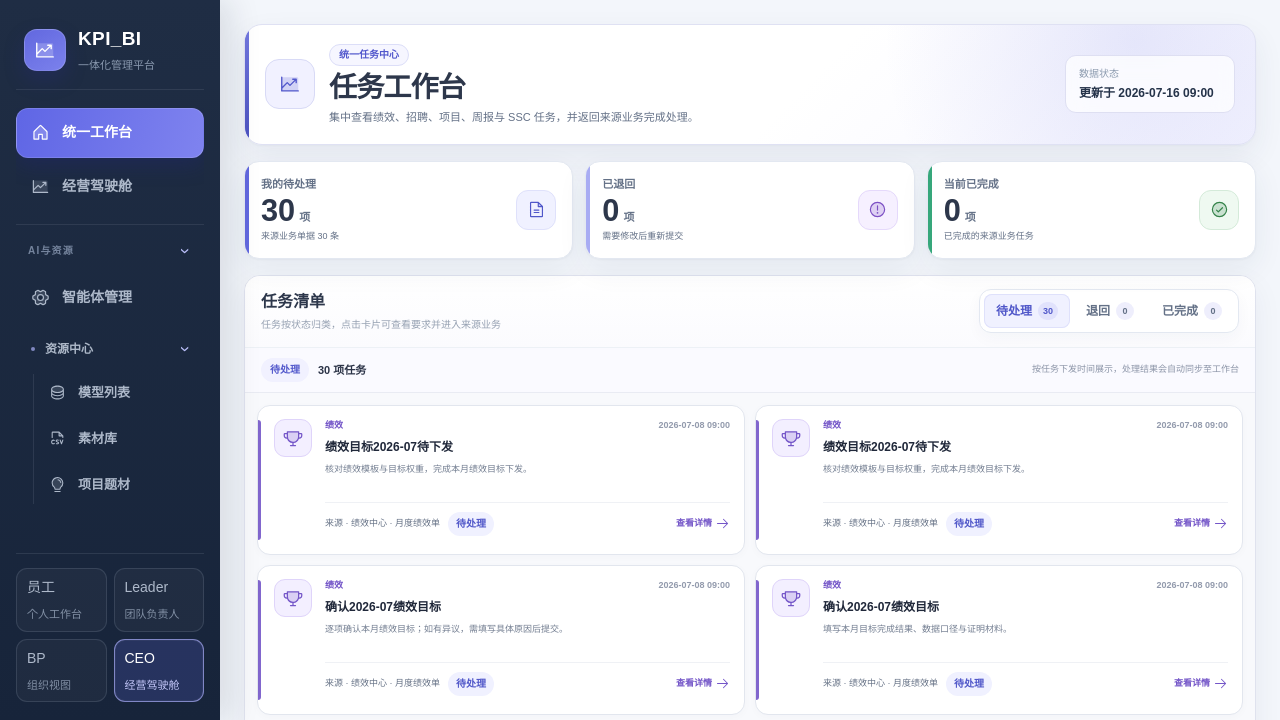
Test: personnel performance and weekly dashboard page › leader can compare two visible people and sees dimension applicability
Click the button "经营驾驶舱" at (110, 186), box [16, 162, 204, 212]
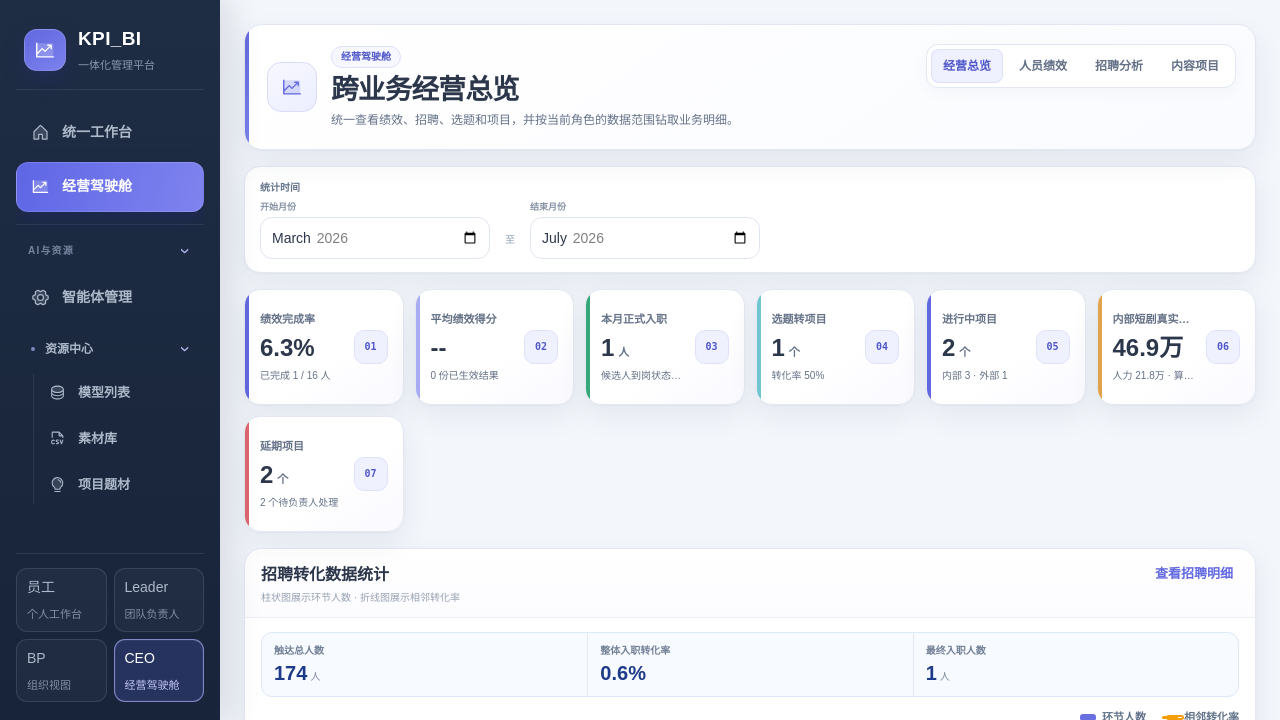
Click the tab "人员绩效" at (1043, 66), box [1007, 49, 1079, 83]
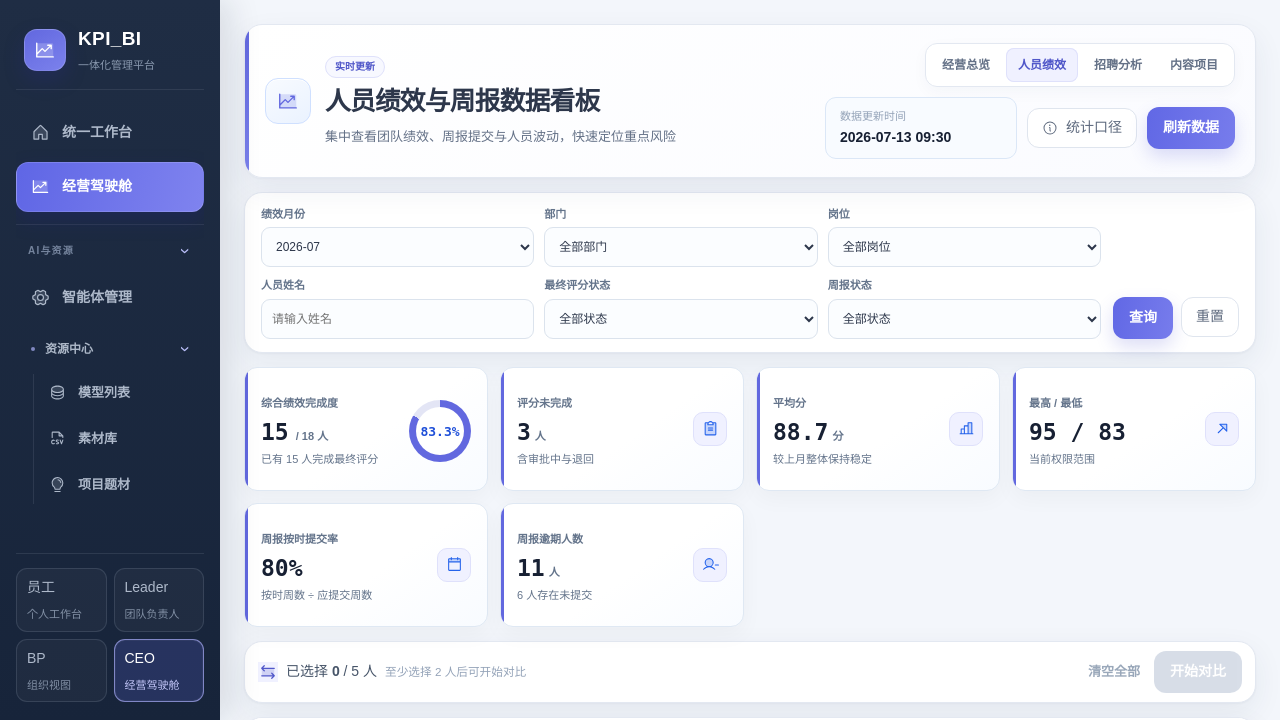
Click the button "Leader 团队负责人" at (159, 600), box [114, 568, 204, 632]
(page scrolled)
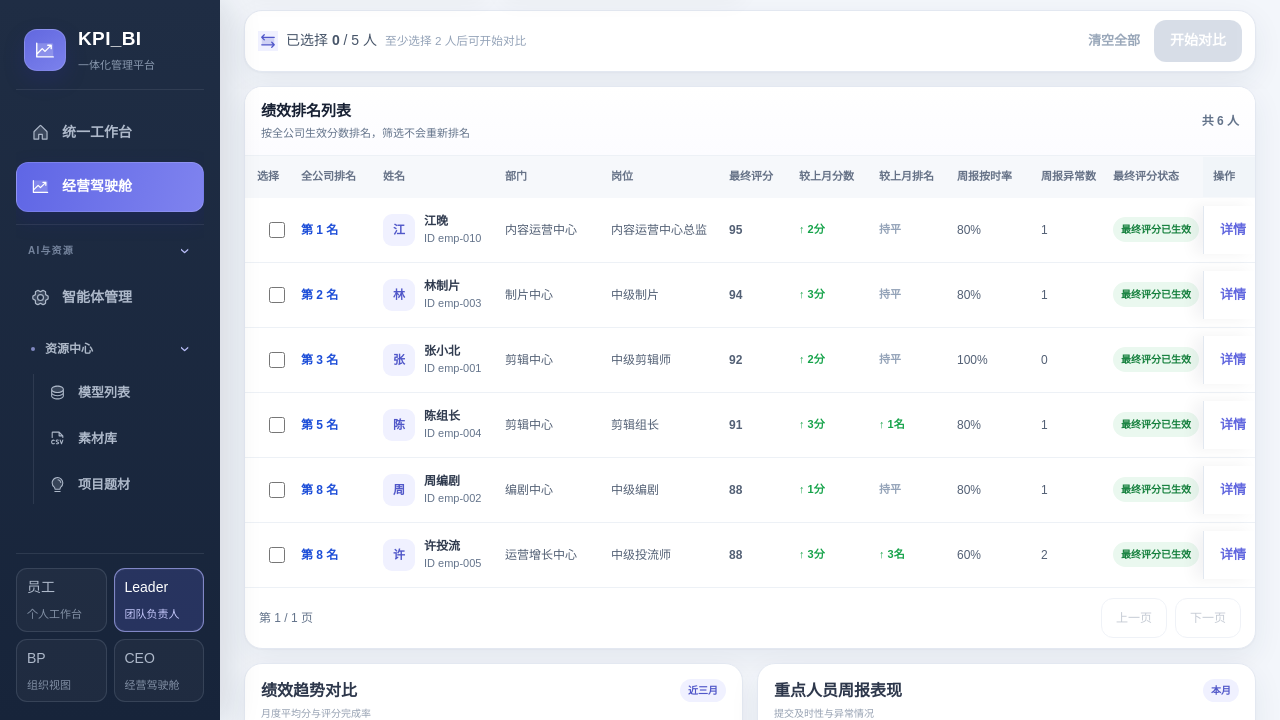
Click the checkbox named "选择张小北" at (276, 360), box [268, 352, 284, 368]
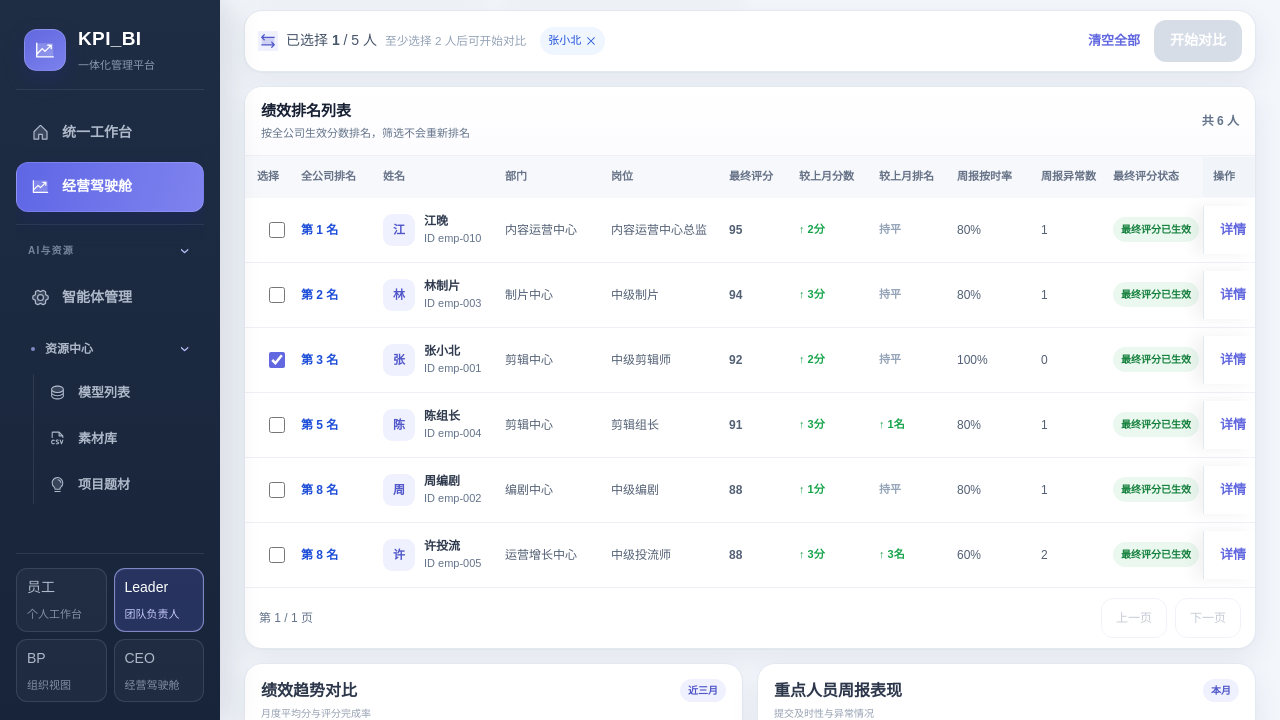
Click the checkbox named "选择周编剧" at (276, 490), box [268, 482, 284, 498]
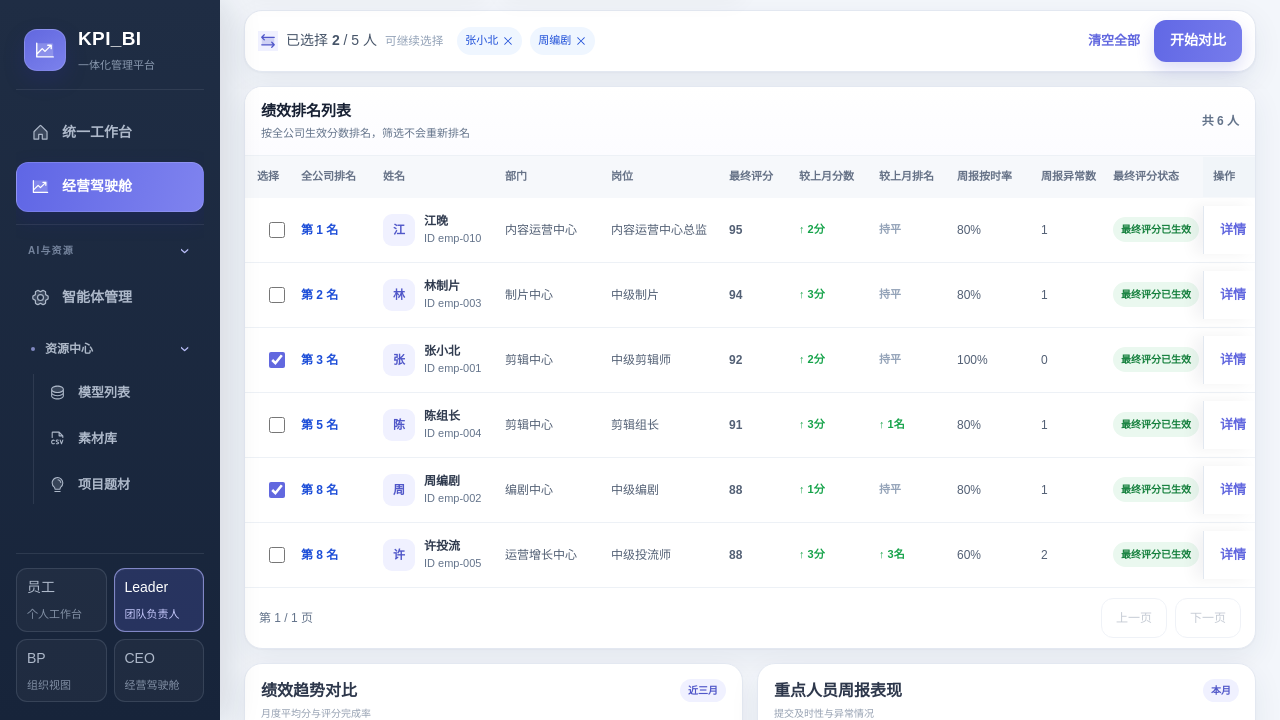
Now the button "开始对比" is enabled
Click the button "开始对比" at (1198, 40), box [1154, 20, 1242, 62]
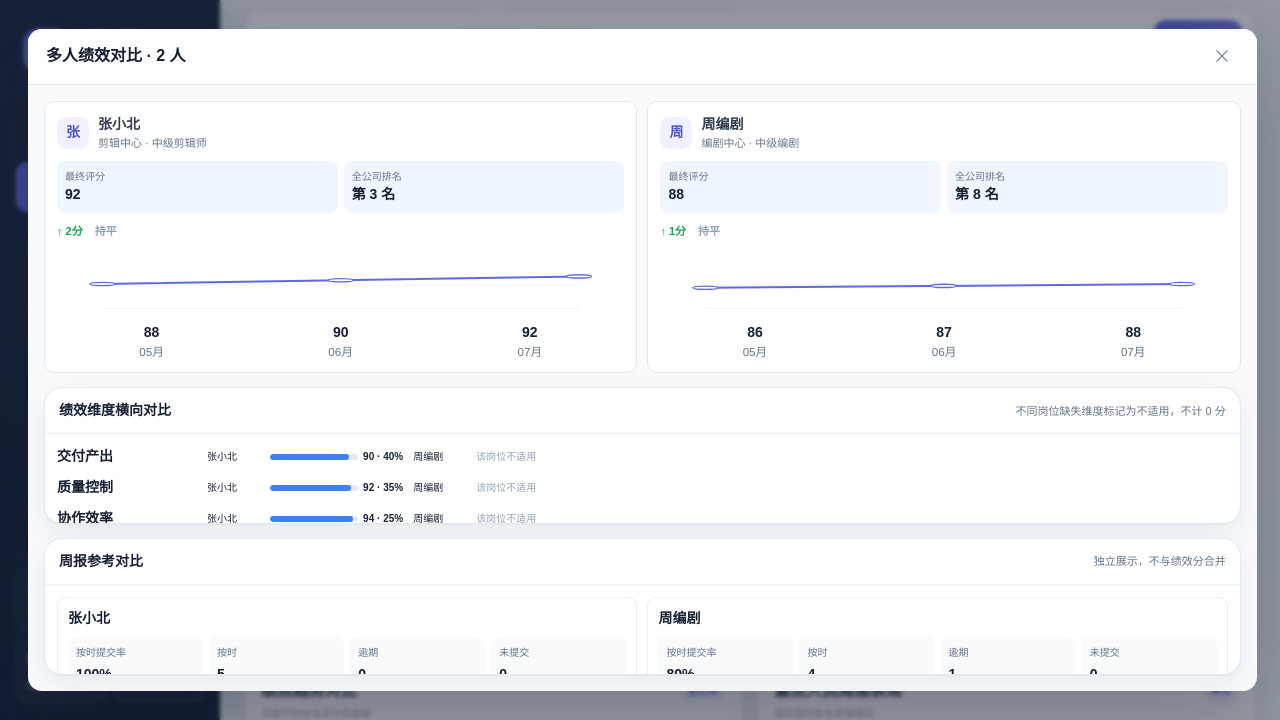
Now the text "绩效维度横向对比" is shown, box [59, 400, 171, 421]
Now the text "该岗位不适用" in the row of "40" is shown, box [476, 451, 536, 462]
